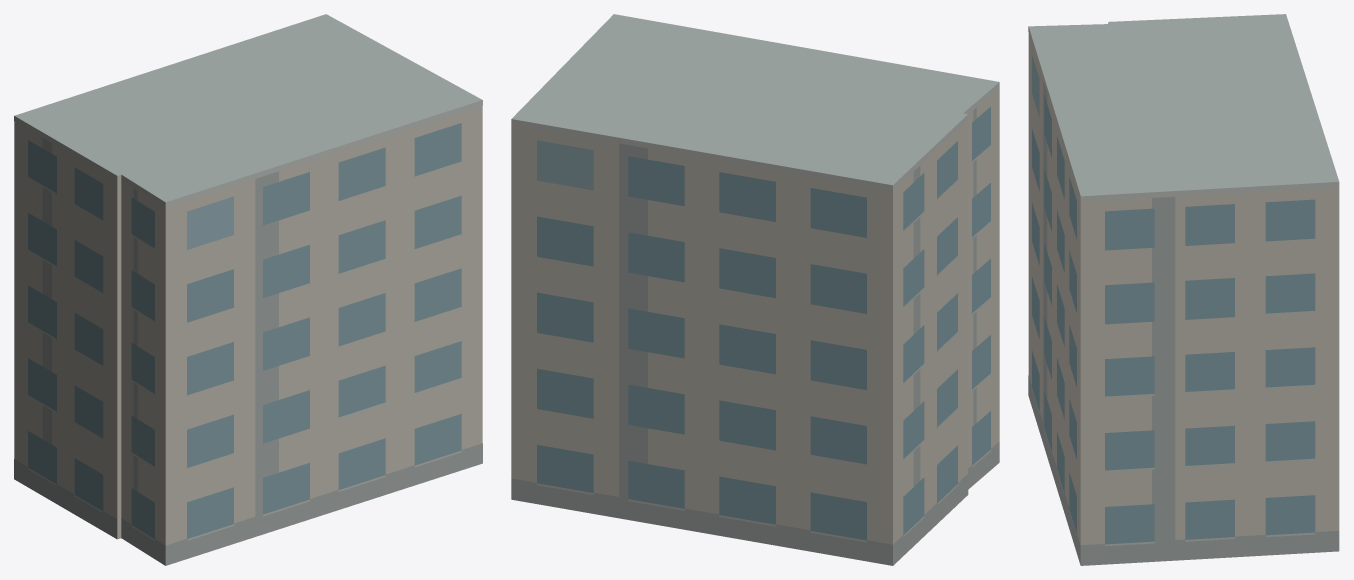
The model's file is survey-upis-33011243.glb.
3 renders of one model, left to right at view 1: azimuth 30°, elevation 25°; view 2: azimuth 150°, elevation 25°; view 3: azimuth 270°, elevation 25°, orthographic. The views are drawn at different scales.
Visible parts, largest first — view 1: survey-upis-33011243.tmp; view 2: survey-upis-33011243.tmp; view 3: survey-upis-33011243.tmp.
Boxes of the visible parts, bbox=[...] form: survey-upis-33011243.tmp: bbox=[14, 14, 482, 565]; survey-upis-33011243.tmp: bbox=[511, 14, 999, 565]; survey-upis-33011243.tmp: bbox=[1028, 14, 1339, 565].
Bounding box in the file's own units: 17.05 × 16.1 × 12.28.
